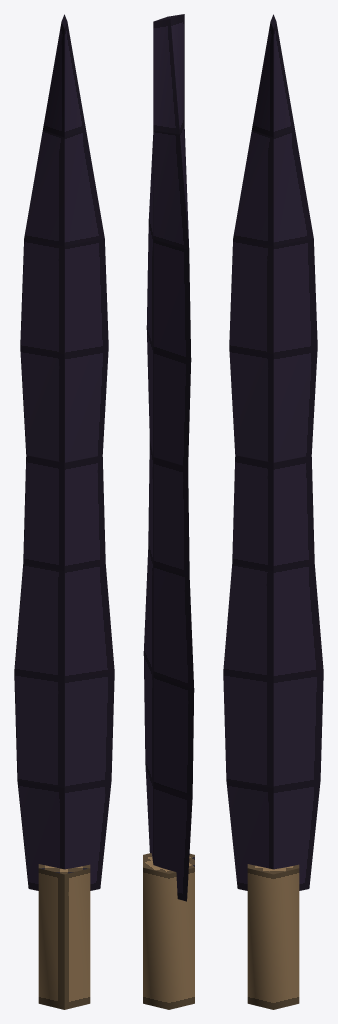
The model's file is obsidian_shard.glb.
3 views of the same model, side by side, from view 1: azimuth 90°, elevation 25°; view 2: azimuth 210°, elevation 25°; view 3: azimuth 270°, elevation 25° (orthographic).
Visible parts, largest first — view 1: obsidian_shard; view 2: obsidian_shard; view 3: obsidian_shard.
Part boxes in pixels (box(x1,y1,x2,y2)): obsidian_shard: box(14, 14, 114, 1009); obsidian_shard: box(143, 14, 194, 1009); obsidian_shard: box(223, 14, 323, 1009).
Bounding box in the file's own units: 0.02 × 0.36 × 0.0336.
Materials: 1 (1 with a texture image).
